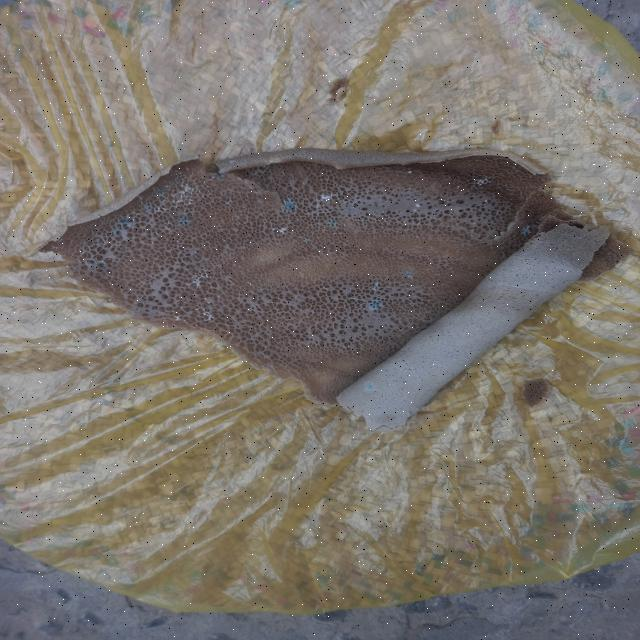injera_mold: (188, 272, 210, 286), (117, 215, 136, 230), (198, 307, 216, 321), (282, 195, 298, 210), (472, 177, 493, 187), (211, 168, 227, 181), (368, 297, 382, 310), (170, 190, 186, 200), (176, 215, 191, 225), (324, 219, 339, 228), (224, 197, 236, 208), (320, 192, 332, 203), (520, 225, 532, 236), (154, 187, 167, 197), (172, 313, 184, 322), (276, 226, 288, 234), (146, 202, 154, 214), (172, 176, 184, 184), (364, 383, 377, 390), (406, 270, 414, 280), (372, 282, 382, 290), (302, 236, 312, 244), (112, 230, 123, 237), (162, 224, 171, 232), (98, 260, 105, 270), (50, 244, 60, 251), (296, 272, 307, 278), (93, 237, 101, 245), (414, 202, 422, 209), (183, 186, 192, 192), (227, 159, 236, 165), (137, 195, 144, 202), (156, 205, 162, 213), (188, 198, 194, 206), (194, 186, 200, 194), (85, 260, 94, 265), (348, 297, 358, 301), (270, 160, 278, 165), (184, 166, 190, 172), (245, 282, 254, 286), (406, 170, 414, 174), (484, 198, 489, 204), (443, 199, 449, 204), (343, 200, 350, 204), (351, 206, 358, 210), (261, 164, 266, 169), (58, 239, 64, 243), (120, 246, 126, 250), (272, 227, 276, 233), (315, 204, 321, 208), (456, 185, 462, 189), (193, 251, 200, 254), (381, 210, 385, 214), (175, 239, 179, 243), (163, 207, 166, 211), (408, 187, 411, 191), (185, 157, 191, 159), (206, 184, 208, 188), (561, 256, 564, 258), (581, 265, 583, 266)
